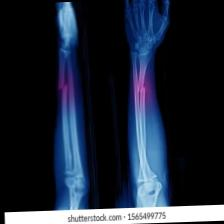open-compound-fracture: (120, 0, 175, 203), (49, 1, 90, 207)
